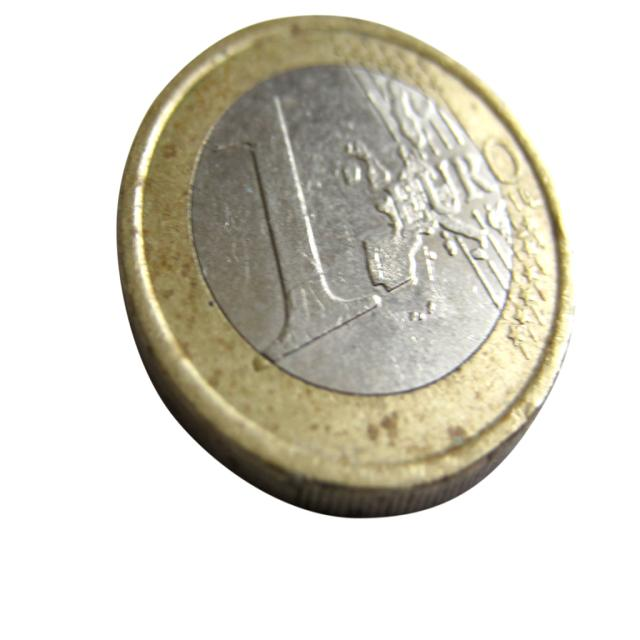Coin: (117, 13, 577, 517)
